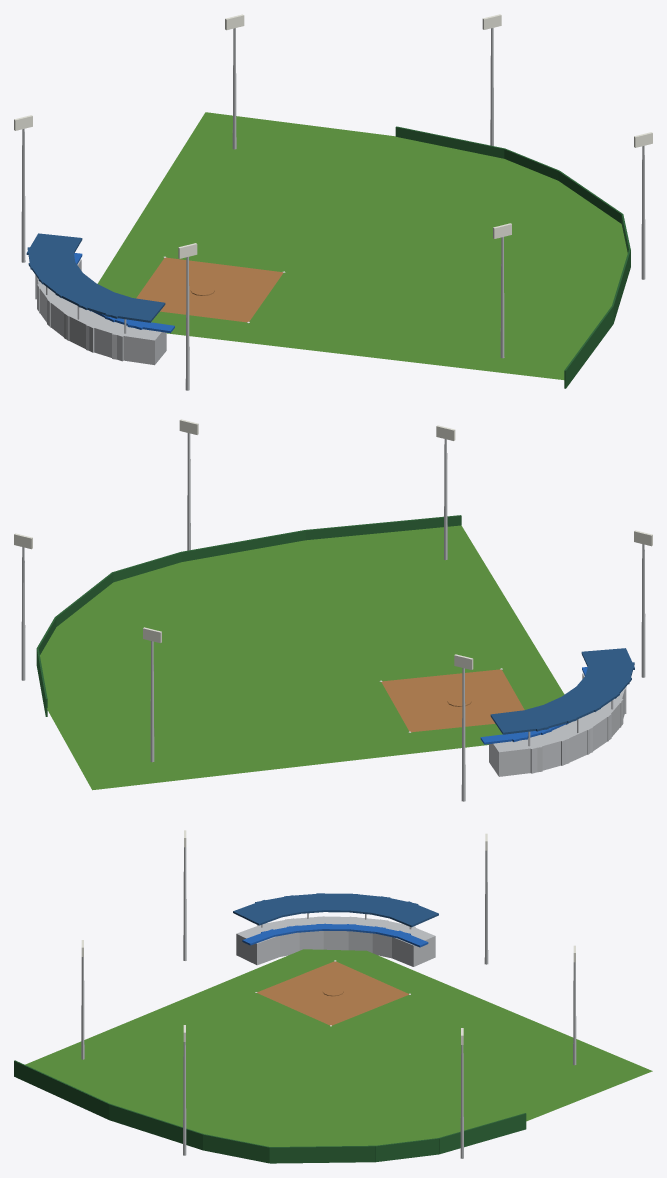
The model's file is ballpark_dem.glb.
The picture shows the model from 3 angles, top to bottom: view 1: azimuth 30°, elevation 25°; view 2: azimuth 150°, elevation 25°; view 3: azimuth 270°, elevation 25°; orthographic projection. The views are drawn at different scales.
Parts seen in each view (by area): view 1: ballpark_dem_lod0; view 2: ballpark_dem_lod0; view 3: ballpark_dem_lod0.
Boxes of the visible parts, x1,y1,x2,y2 form: ballpark_dem_lod0: (14, 14, 652, 390); ballpark_dem_lod0: (14, 419, 652, 801); ballpark_dem_lod0: (14, 830, 652, 1163).
Size of what is drawn, in the model's own units: 137 by 39.69 by 161.
